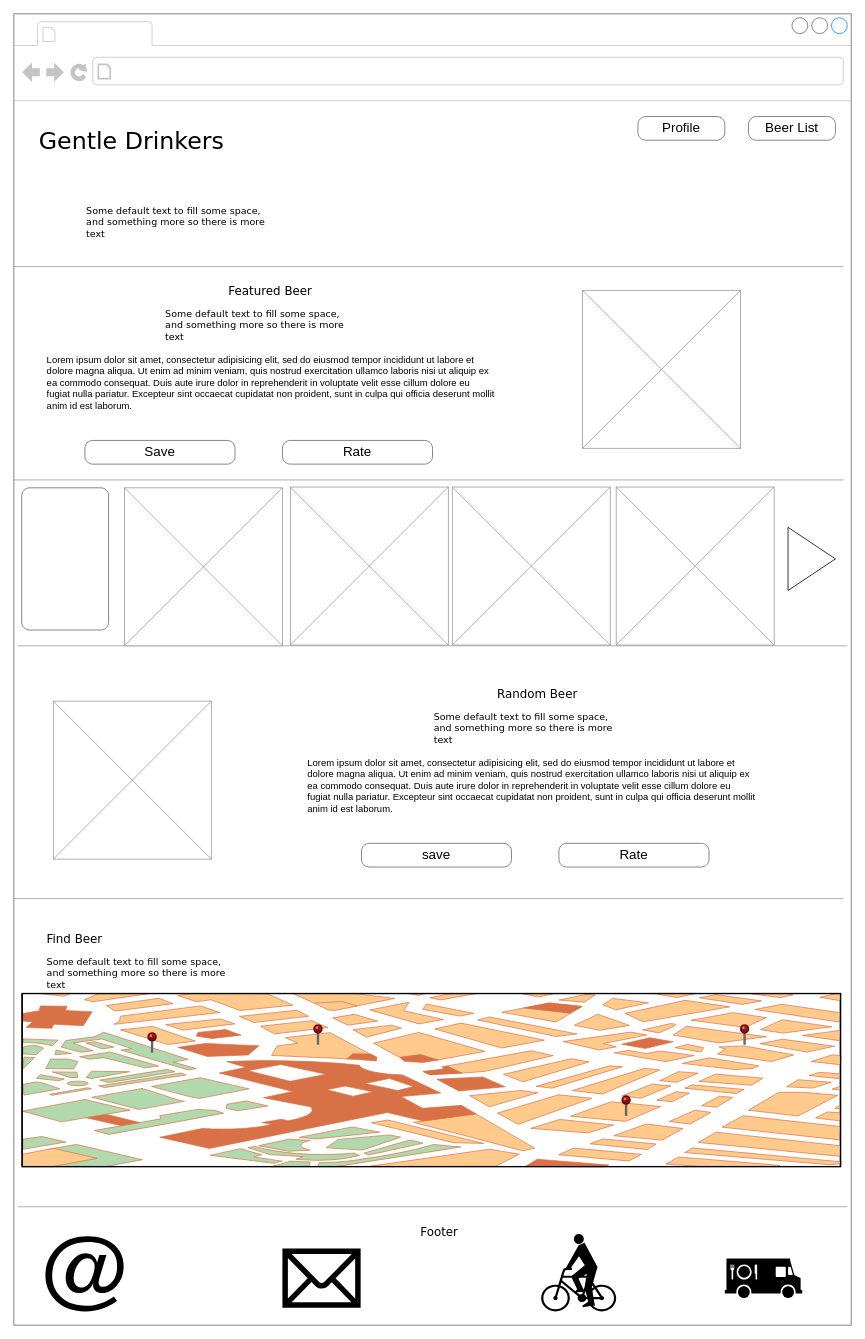
Image size: 865x1339. Some labels were removed from this diagram. Here are the shapes that lost their labels. From the top down, the centre of each, then its label:
At point (104, 33): "Page 1".
At point (215, 71): "https://www.default.com".
At point (65, 558): "New questions".
